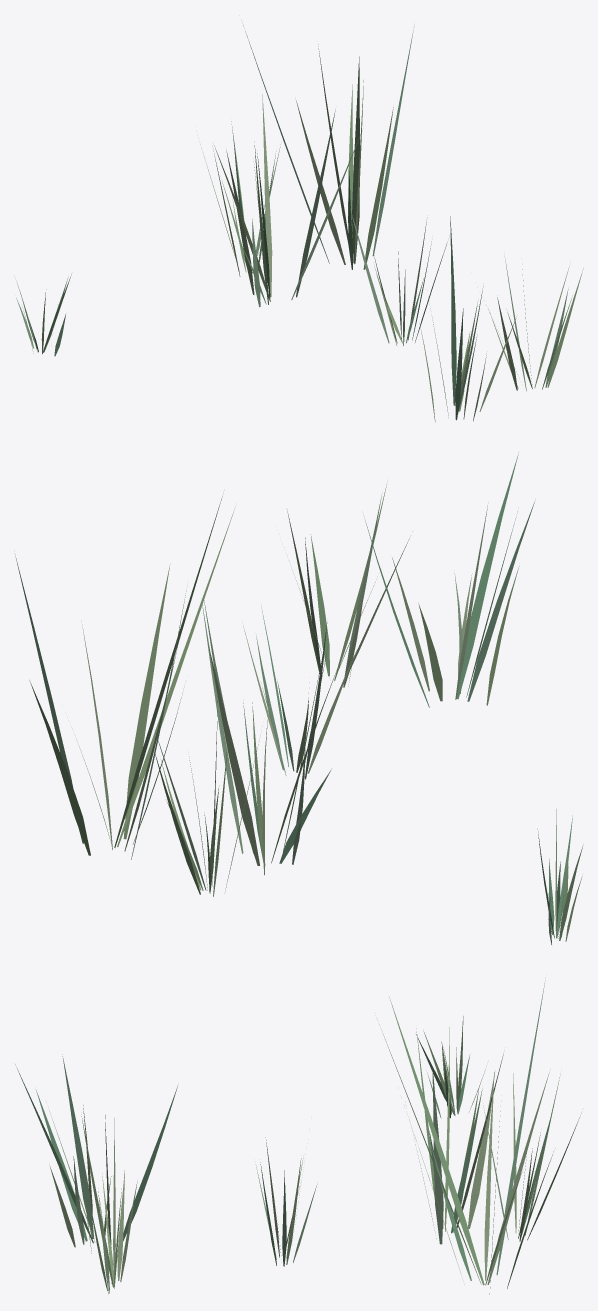
Rendered from E07_VEG05_CAPIM_MARGEM_A_R3Z2_REV04.glb.
The picture shows the model from 3 angles, top to bottom: view 1: azimuth 30°, elevation 25°; view 2: azimuth 150°, elevation 25°; view 3: azimuth 270°, elevation 25°; orthographic projection. The views are drawn at different scales.
Parts seen in each view (by area): view 1: world; view 2: world; view 3: world.
Part boxes in pixels (<box>): world: <box>16,24,583,422</box>; world: <box>14,452,583,944</box>; world: <box>15,977,581,1294</box>.
Size of the model in its own units: 1.01 by 0.5861 by 1.12.
